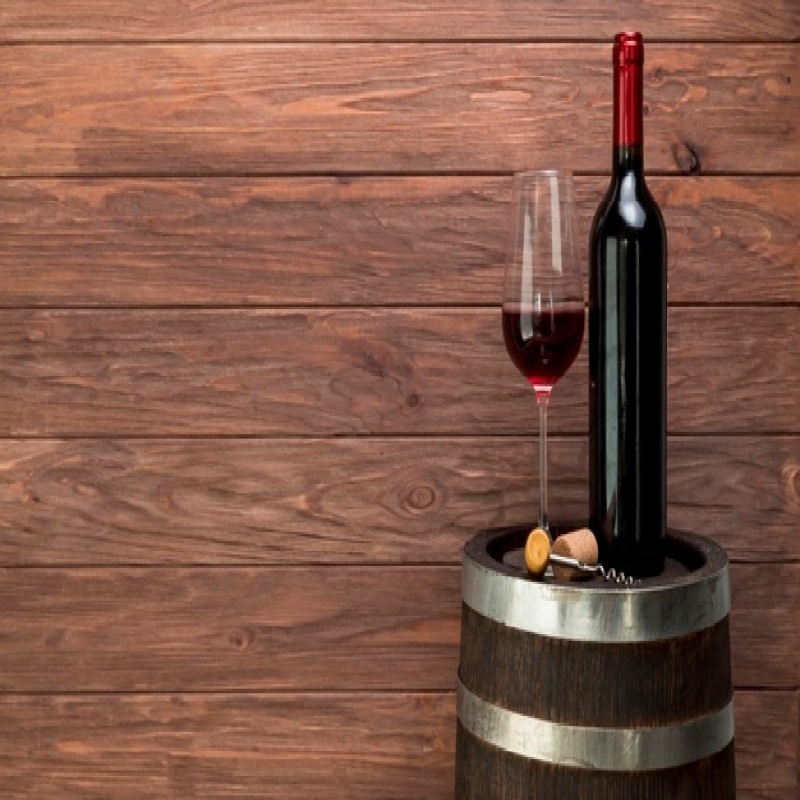wine: (580, 39, 673, 568)
